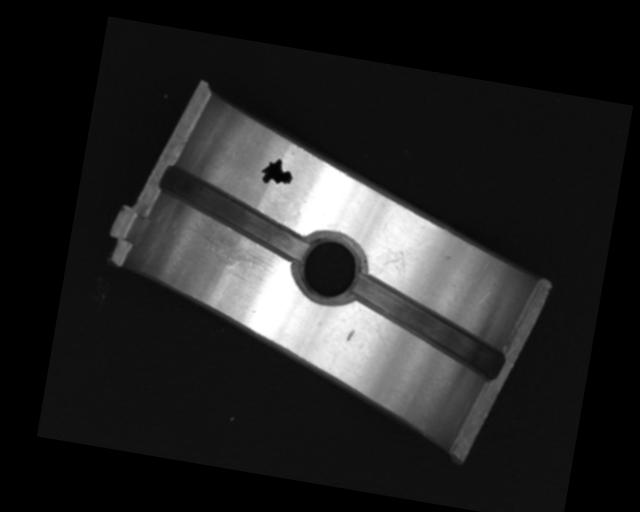blot: (258, 154, 296, 188)
bruise: (344, 327, 354, 343)
gap: (342, 273, 512, 379), (151, 164, 318, 260)
hole: (293, 226, 367, 304)
scratch: (178, 213, 281, 277)
